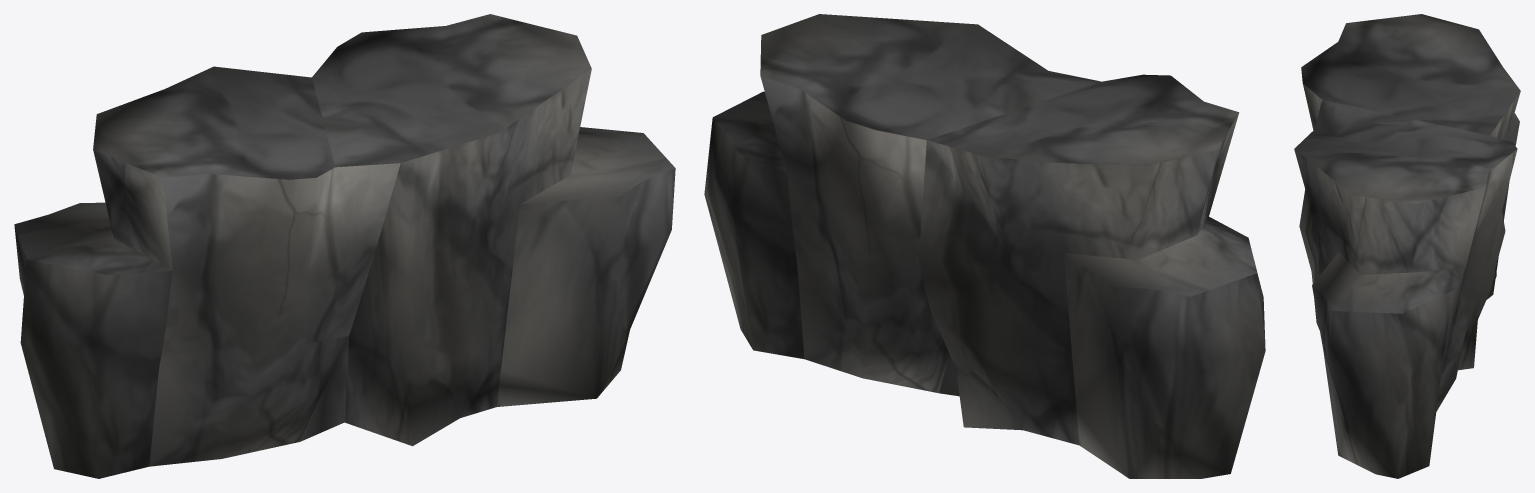
Rendered from M_gake7.fbx.
3 renders of one model, left to right at view 1: azimuth 30°, elevation 25°; view 2: azimuth 150°, elevation 25°; view 3: azimuth 270°, elevation 25°, orthographic. The views are drawn at different scales.
Visible parts, largest first — view 1: M_gake7; view 2: M_gake7; view 3: M_gake7.
Boxes of the visible parts, left/top/right/bottom form: M_gake7: left=14, top=14, right=675, bottom=478; M_gake7: left=704, top=14, right=1265, bottom=478; M_gake7: left=1294, top=14, right=1520, bottom=478.
Bounding box in the file's own units: 5820 × 2954 × 2317.
1 material, 1 textured.
